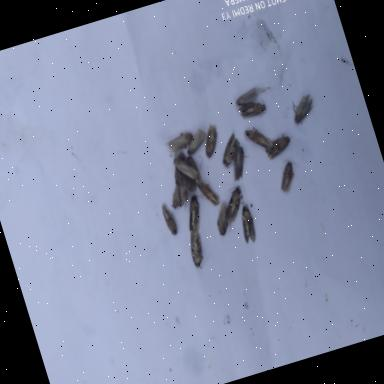pbw: (216, 182, 254, 231), (164, 156, 198, 208), (270, 152, 308, 198), (182, 223, 216, 273), (228, 75, 275, 110), (222, 139, 257, 186), (206, 197, 240, 244), (231, 196, 262, 246), (258, 129, 298, 165), (172, 148, 208, 188), (179, 194, 214, 234), (240, 118, 276, 156), (285, 89, 320, 128), (213, 128, 245, 170), (193, 172, 226, 210), (196, 121, 226, 161), (235, 94, 273, 125), (180, 124, 214, 158), (164, 128, 198, 156), (158, 200, 181, 240)
